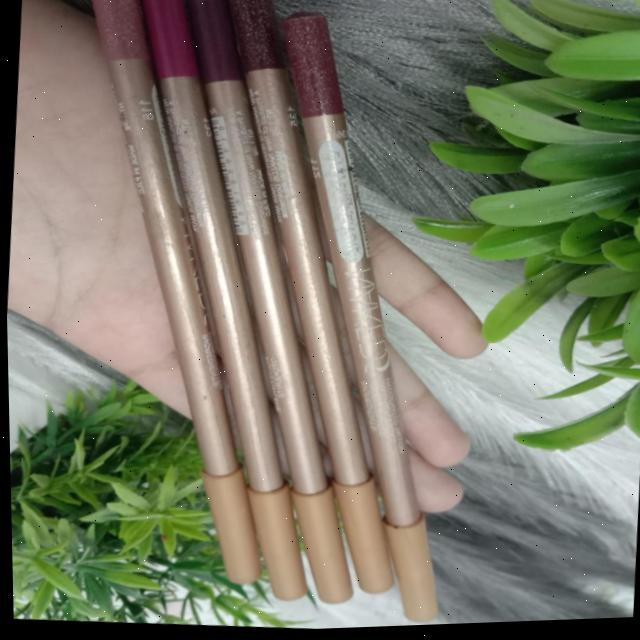lip liner: (151, 0, 479, 630)
